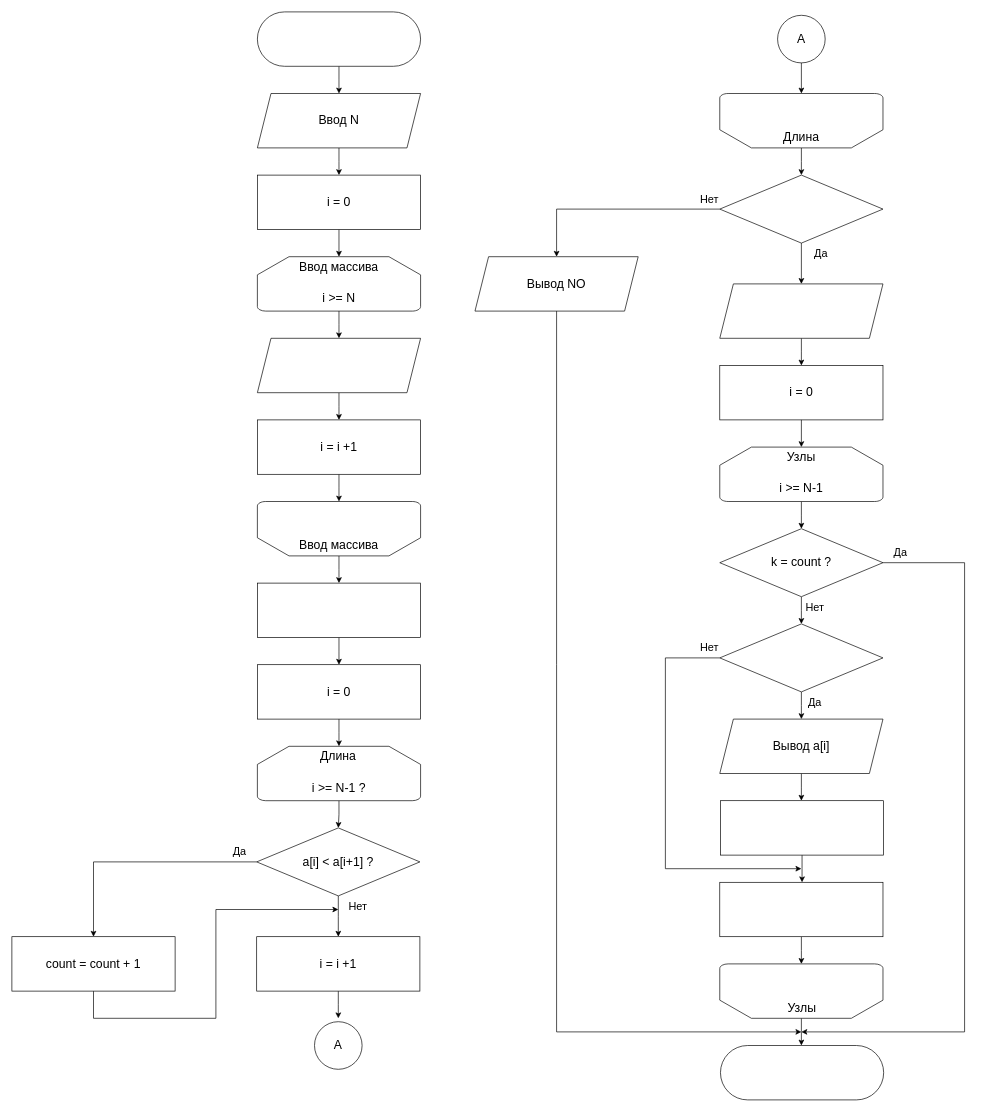
Some shapes in this 982 by 1112 pixel diagram are drawn without their labels. The shapes that lost their labels are listed below. From the top down, each one's centre as x and y in pixels, then its label:
At pixel 339 38: "Начало".
At pixel 801 208: "count > 0 ?".
At pixel 801 310: "Вывод count".
At pixel 339 365: "Ввод a[i]".
At pixel 339 610: "k = 0 count = 0".
At pixel 801 657: "a[i] < a[i+1]".
At pixel 802 827: "k = k + 1".
At pixel 801 909: "i = i + 1".
At pixel 802 1072: "Конец".
